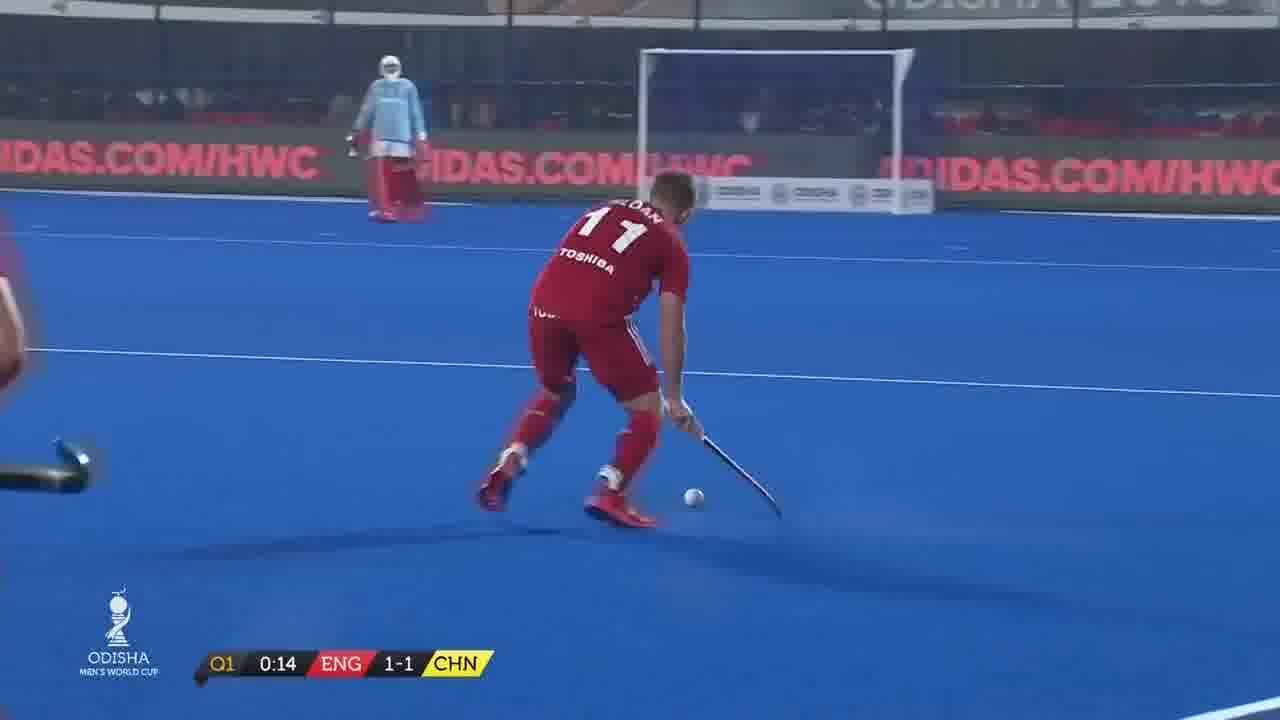ball: (678, 480, 712, 514)
